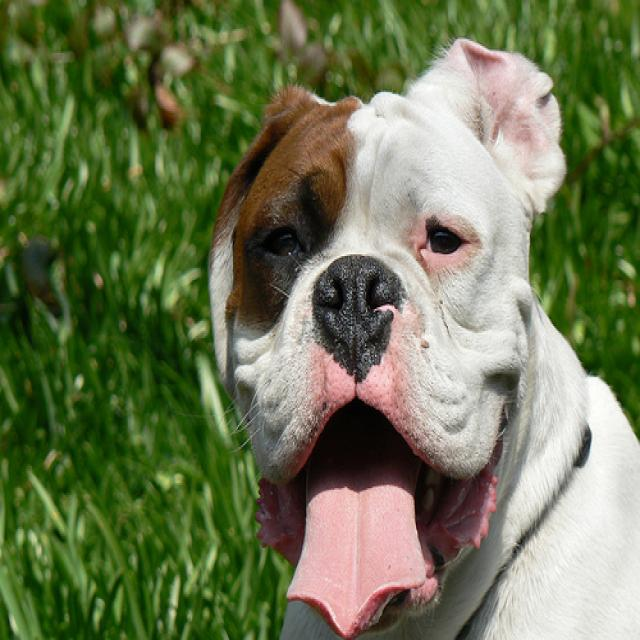dog-boxer: (202, 22, 637, 637)
